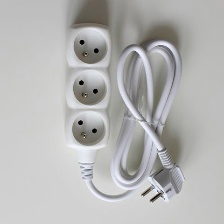three_eye_plug: (62, 18, 113, 151)
